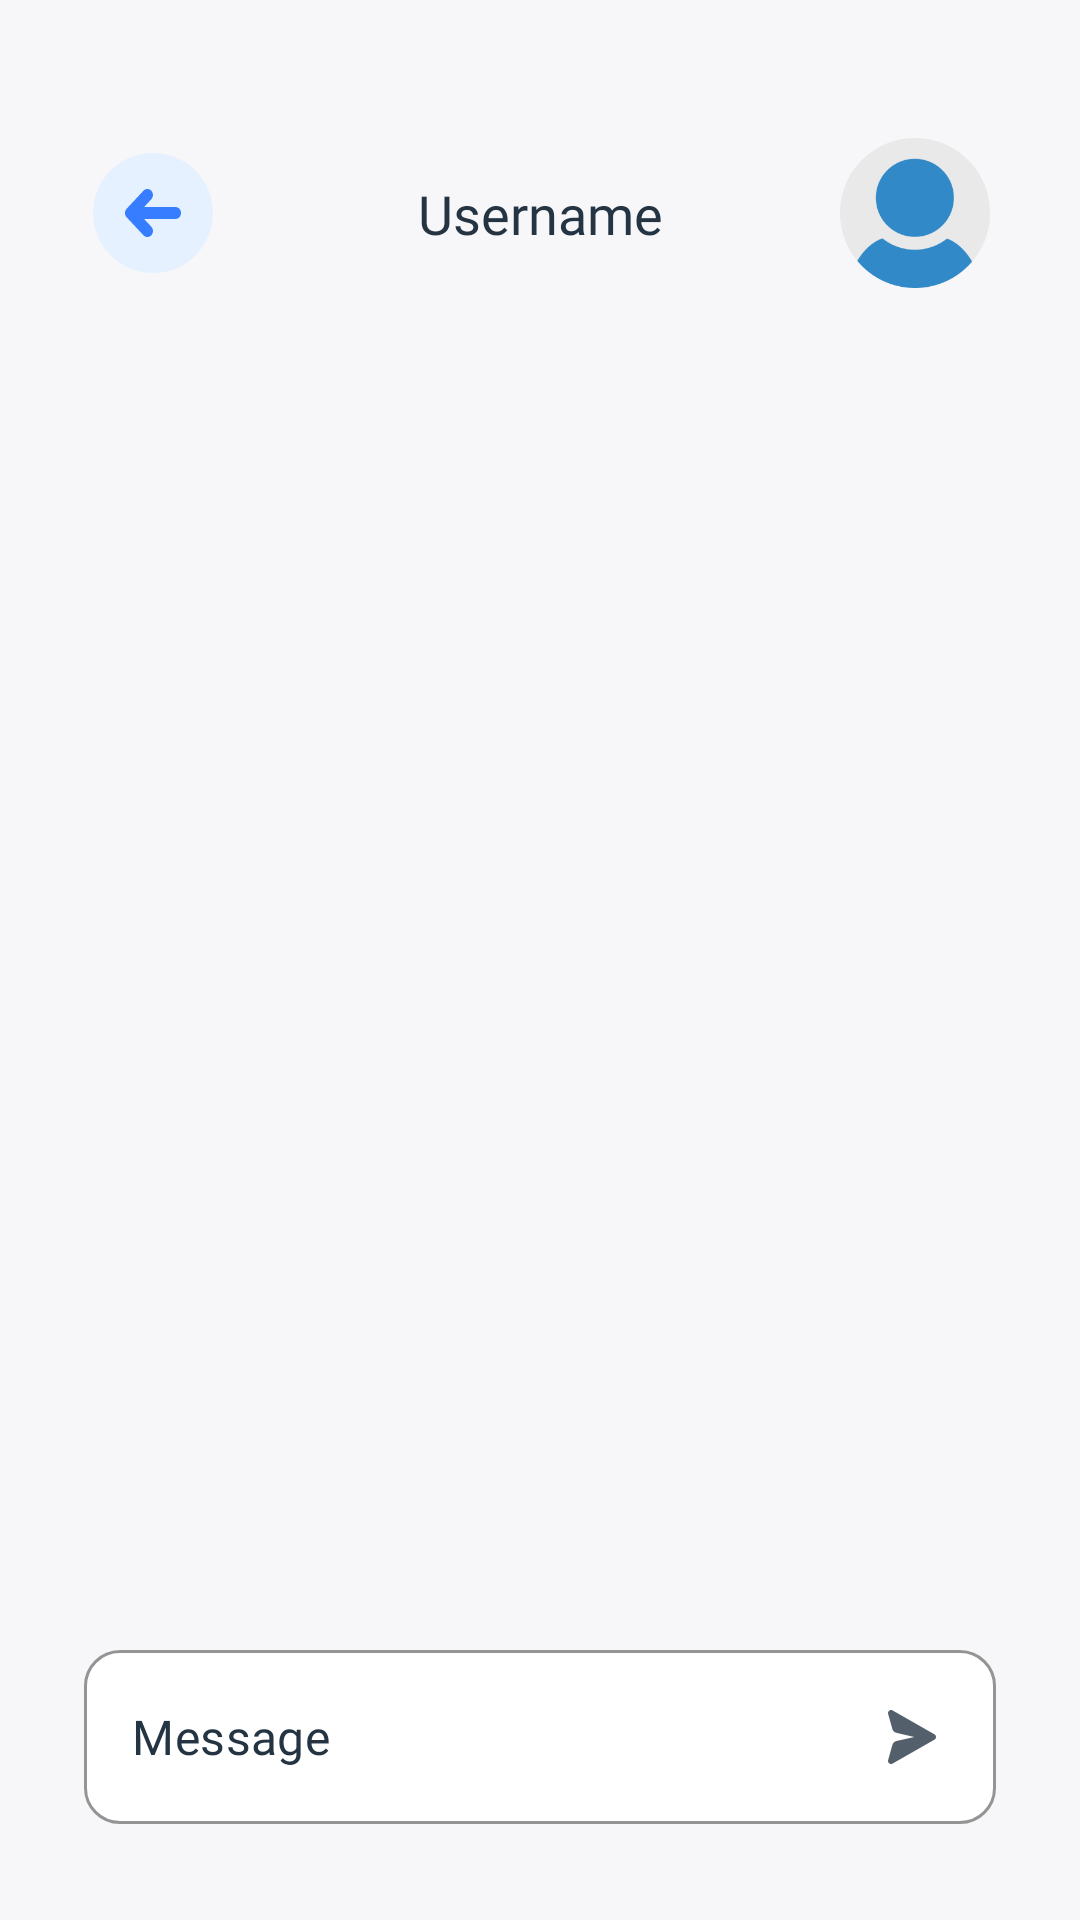

Icons on this 1080px x 1920px Android screen, each with the point to tap as [x,y]:
Back button: [153,213]
Profile photo: [914,223]
